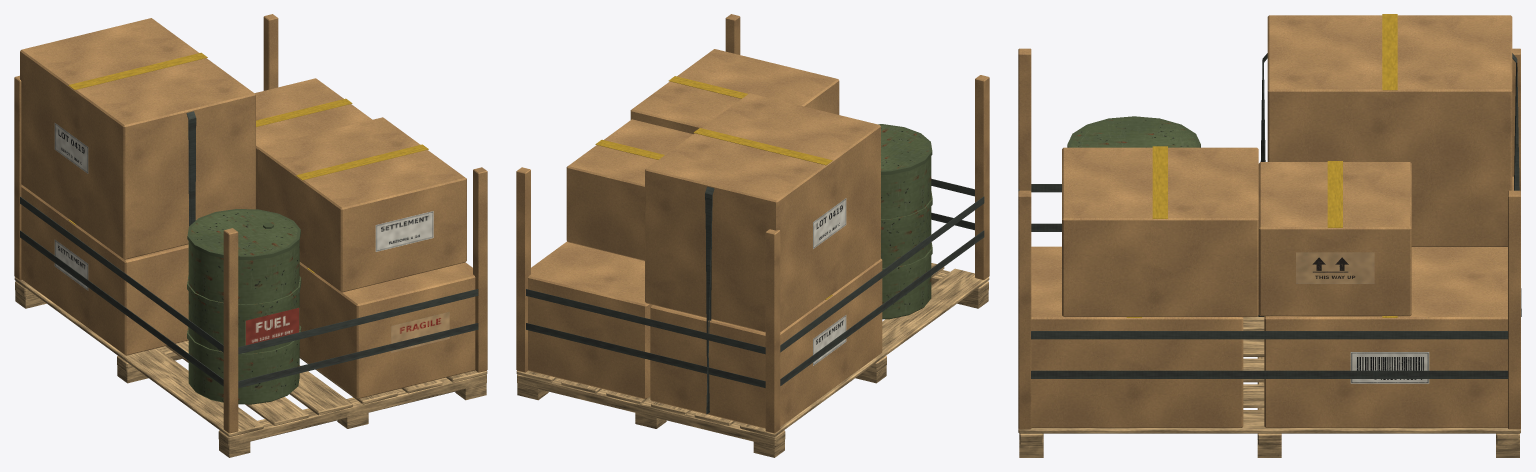
The model's file is cargo_stack_pallet_olive.gltf.
The picture shows the model from 3 angles, left to right: view 1: azimuth 30°, elevation 25°; view 2: azimuth 150°, elevation 25°; view 3: azimuth 270°, elevation 25°; orthographic projection. The views are drawn at different scales.
Visible parts, largest first — view 1: StackPallet_Body; view 2: StackPallet_Body; view 3: StackPallet_Body.
Boxes of the visible parts, <box> form: StackPallet_Body: <box>14,14,487,457</box>; StackPallet_Body: <box>516,14,989,457</box>; StackPallet_Body: <box>1018,14,1521,457</box>.
Bounding box in the file's own units: 1.6 × 1.5 × 2.3.
Materials: 6 (6 with a texture image).
